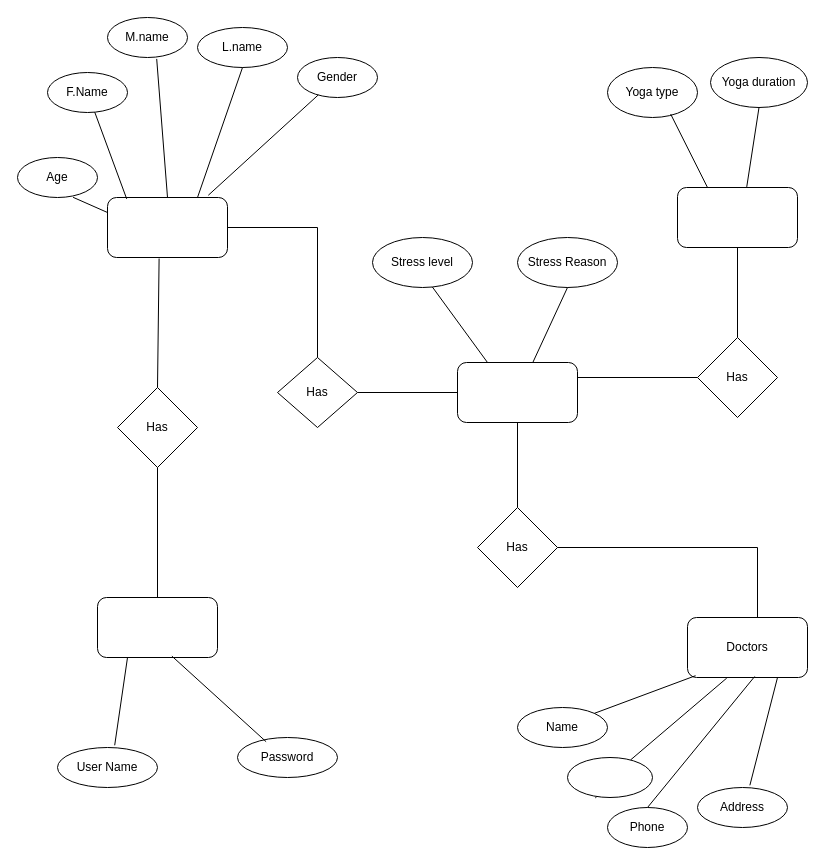
This 825x865 diagram has some shape labels left out. Here are the shapes that lost their labels. From the top down, the centre of each, then its label:
pixel 167 227: User
pixel 737 217: Yoga
pixel 517 392: Stress
pixel 157 627: Login
pixel 609 777: Dr. Id
